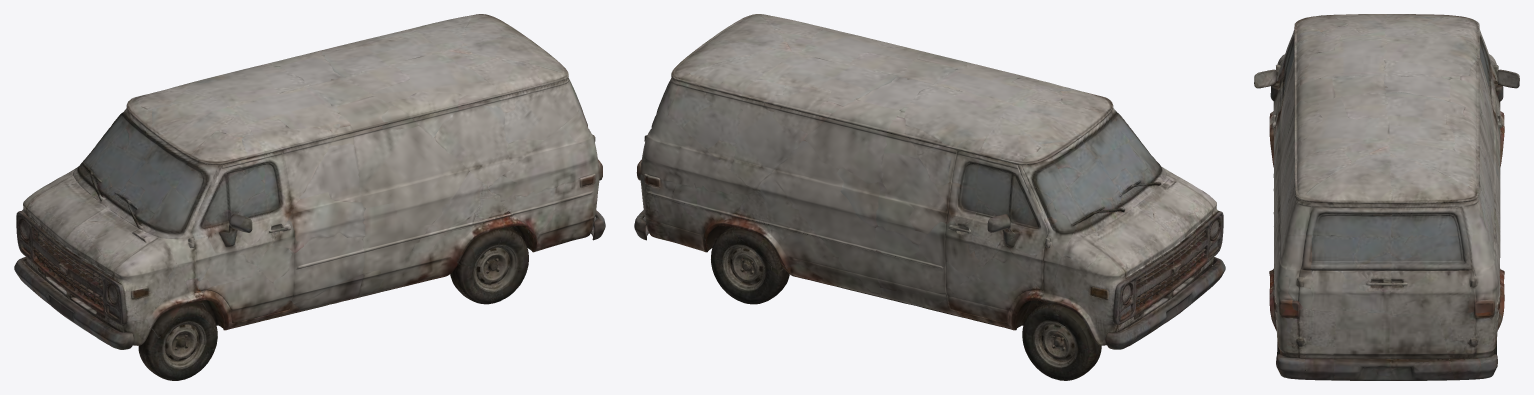
Rendered from car_van_light_q3.glb.
3 views of the same model, side by side, from view 1: azimuth 30°, elevation 25°; view 2: azimuth 150°, elevation 25°; view 3: azimuth 270°, elevation 25° (orthographic). The views are drawn at different scales.
Size of the model in its own units: 0.0488 by 0.02 by 0.0217.
Materials: 1 (1 with a texture image).
